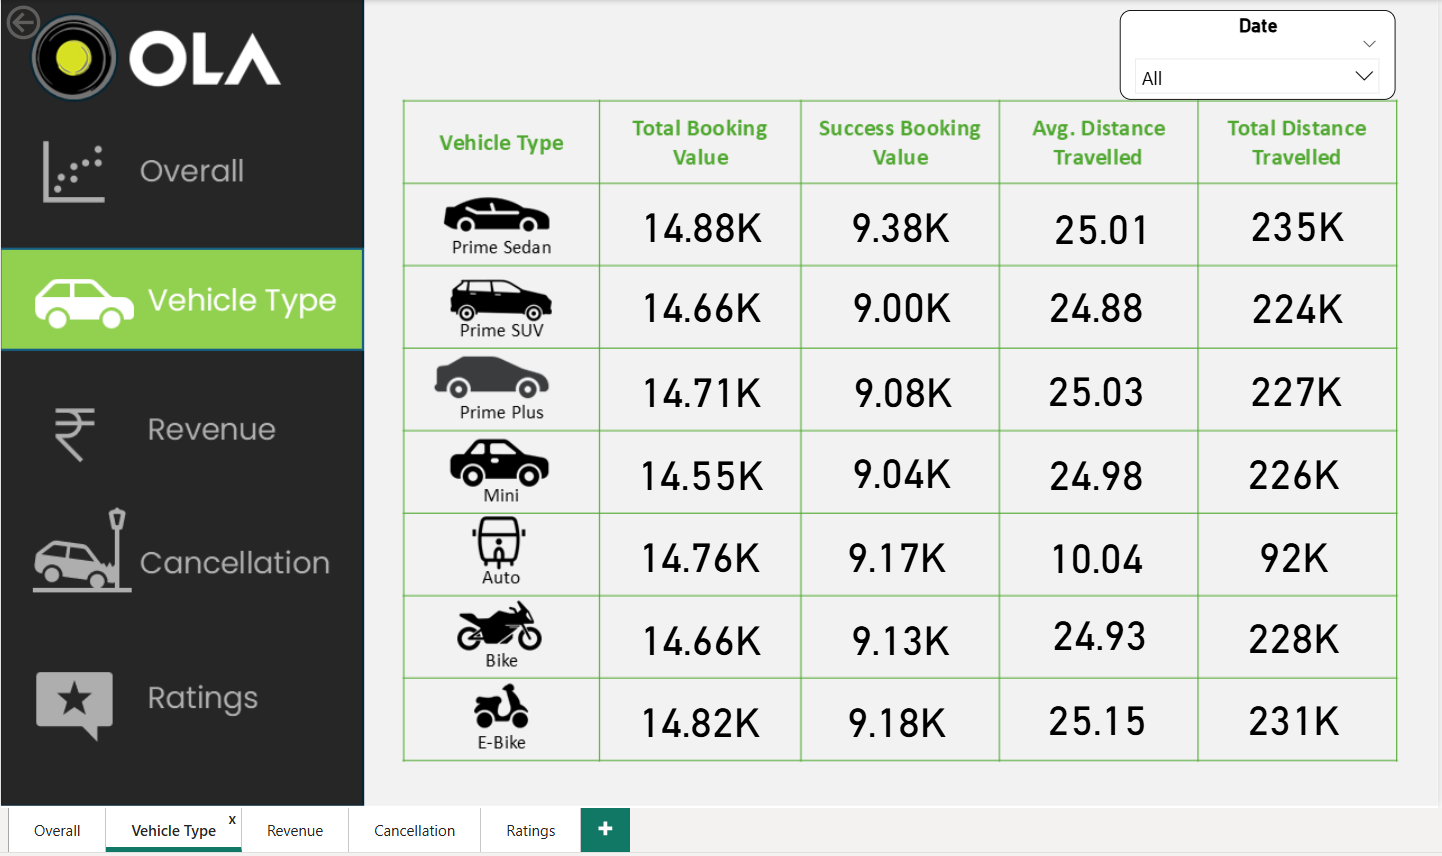

Layout of this report page (visuals, bound fields, positions):
{"tool":"powerbi","page":{"name":"Vehicle Type","canvas":[1280,720],"ordinal":1},"visuals":[{"type":"actionButton","box":[0,340.2,323.3,78.4],"z":0},{"type":"card","fields":{"Values":["CountNonNull(Bookings.Booking_Value)"]},"box":[535.2,166,177,67.2],"z":1000},{"type":"card","fields":{"Values":["CountNonNull(Bookings.Booking_Value)"]},"box":[535.2,238.8,175.6,65.9],"z":2000},{"type":"card","fields":{"Values":["CountNonNull(Bookings.Booking_Value)"]},"box":[535.2,314.2,175.6,65.9],"z":3000},{"type":"card","fields":{"Values":["CountNonNull(Bookings.Booking_Value)"]},"box":[535.2,387,175.6,65.9],"z":4000},{"type":"card","fields":{"Values":["CountNonNull(Bookings.Booking_Value)"]},"box":[533.8,461.1,175.6,65.9],"z":5000},{"type":"card","fields":{"Values":["CountNonNull(Bookings.Booking_Value)"]},"box":[535.2,533.8,175.6,65.9],"z":6000},{"type":"card","fields":{"Values":["CountNonNull(Bookings.Booking_Value)"]},"box":[533.8,607.9,175.6,65.9],"z":7000},{"type":"card","fields":{"Values":["CountNonNull(Bookings.Booking_Value)"]},"box":[712.2,166,177,67.2],"z":8000},{"type":"card","fields":{"Values":["CountNonNull(Bookings.Booking_Value)"]},"box":[713.6,237.4,177,67.2],"z":9000},{"type":"card","fields":{"Values":["CountNonNull(Bookings.Booking_Value)"]},"box":[714.9,312.9,177,67.2],"z":10000},{"type":"card","fields":{"Values":["CountNonNull(Bookings.Booking_Value)"]},"box":[713.6,385.6,177,67.2],"z":11000},{"type":"card","fields":{"Values":["CountNonNull(Bookings.Booking_Value)"]},"box":[709.4,459.7,177,67.2],"z":12000},{"type":"card","fields":{"Values":["CountNonNull(Bookings.Booking_Value)"]},"box":[712.2,533.8,177,67.2],"z":13000},{"type":"card","fields":{"Values":["CountNonNull(Bookings.Booking_Value)"]},"box":[709.4,606.5,177,67.2],"z":14000},{"type":"card","fields":{"Values":["Avg(Bookings.Ride_Distance)"]},"box":[893,167.6,176.3,66.5],"z":15000},{"type":"actionButton","box":[0,0,100,40],"z":16000},{"type":"card","fields":{"Values":["Avg(Bookings.Ride_Distance)"]},"box":[887.2,237,176.3,67.9],"z":17000},{"type":"card","fields":{"Values":["Avg(Bookings.Ride_Distance)"]},"box":[887.2,312.1,176.3,67.9],"z":18000},{"type":"card","fields":{"Values":["Avg(Bookings.Ride_Distance)"]},"box":[887.2,387.3,176.3,66.5],"z":19000},{"type":"card","fields":{"Values":["Avg(Bookings.Ride_Distance)"]},"box":[887.2,461,176.3,67.9],"z":20000},{"type":"card","fields":{"Values":["Avg(Bookings.Ride_Distance)"]},"box":[890.1,528.9,176.3,67.9],"z":21000},{"type":"card","fields":{"Values":["Avg(Bookings.Ride_Distance)"]},"box":[888.7,605.5,176.3,66.5],"z":22000},{"type":"card","fields":{"Values":["Sum(Bookings.Ride_Distance)"]},"box":[1066.4,166.2,176.3,66.5],"z":23000},{"type":"card","fields":{"Values":["Sum(Bookings.Ride_Distance)"]},"box":[1066.4,238.4,176.3,67.9],"z":24000},{"type":"card","fields":{"Values":["Sum(Bookings.Ride_Distance)"]},"box":[1065,312.1,176.3,67.9],"z":25000},{"type":"card","fields":{"Values":["Sum(Bookings.Ride_Distance)"]},"box":[1063.5,385.8,176.3,66.5],"z":26000},{"type":"card","fields":{"Values":["Sum(Bookings.Ride_Distance)"]},"box":[1063.5,459.5,176.3,67.9],"z":27000},{"type":"card","fields":{"Values":["Sum(Bookings.Ride_Distance)"]},"box":[1063.5,531.8,176.3,67.9],"z":28000},{"type":"card","fields":{"Values":["Sum(Bookings.Ride_Distance)"]},"box":[1063.5,605.5,176.3,66.5],"z":29000},{"type":"slicer","title":"Date","fields":{"Values":["Bookings.Date.Variation.Date Hierarchy.Year","Bookings.Date.Variation.Date Hierarchy.Month","Bookings.Date.Variation.Date Hierarchy.Day"]},"box":[996,8.5,245.4,80.2],"z":30000}]}

Visuals, with their boxes on the page's 1280x720 design canvas (x1, y1, x2, y2). These are canvas units, not pixel positions in the 1442x856 screenshot, which may show the page scaled, cropped or inside an application window:
actionButton: 0:340:323:419
card - CountNonNull(Bookings.Booking_Value): 535:166:712:233
card - CountNonNull(Bookings.Booking_Value): 535:239:711:305
card - CountNonNull(Bookings.Booking_Value): 535:314:711:380
card - CountNonNull(Bookings.Booking_Value): 535:387:711:453
card - CountNonNull(Bookings.Booking_Value): 534:461:709:527
card - CountNonNull(Bookings.Booking_Value): 535:534:711:600
card - CountNonNull(Bookings.Booking_Value): 534:608:709:674
card - CountNonNull(Bookings.Booking_Value): 712:166:889:233
card - CountNonNull(Bookings.Booking_Value): 714:237:891:305
card - CountNonNull(Bookings.Booking_Value): 715:313:892:380
card - CountNonNull(Bookings.Booking_Value): 714:386:891:453
card - CountNonNull(Bookings.Booking_Value): 709:460:886:527
card - CountNonNull(Bookings.Booking_Value): 712:534:889:601
card - CountNonNull(Bookings.Booking_Value): 709:606:886:674
card - Avg(Bookings.Ride_Distance): 893:168:1069:234
actionButton: 0:0:100:40
card - Avg(Bookings.Ride_Distance): 887:237:1064:305
card - Avg(Bookings.Ride_Distance): 887:312:1064:380
card - Avg(Bookings.Ride_Distance): 887:387:1064:454
card - Avg(Bookings.Ride_Distance): 887:461:1064:529
card - Avg(Bookings.Ride_Distance): 890:529:1066:597
card - Avg(Bookings.Ride_Distance): 889:606:1065:672
card - Sum(Bookings.Ride_Distance): 1066:166:1243:233
card - Sum(Bookings.Ride_Distance): 1066:238:1243:306
card - Sum(Bookings.Ride_Distance): 1065:312:1241:380
card - Sum(Bookings.Ride_Distance): 1064:386:1240:452
card - Sum(Bookings.Ride_Distance): 1064:460:1240:527
card - Sum(Bookings.Ride_Distance): 1064:532:1240:600
card - Sum(Bookings.Ride_Distance): 1064:606:1240:672
"Date" slicer: 996:8:1241:89
